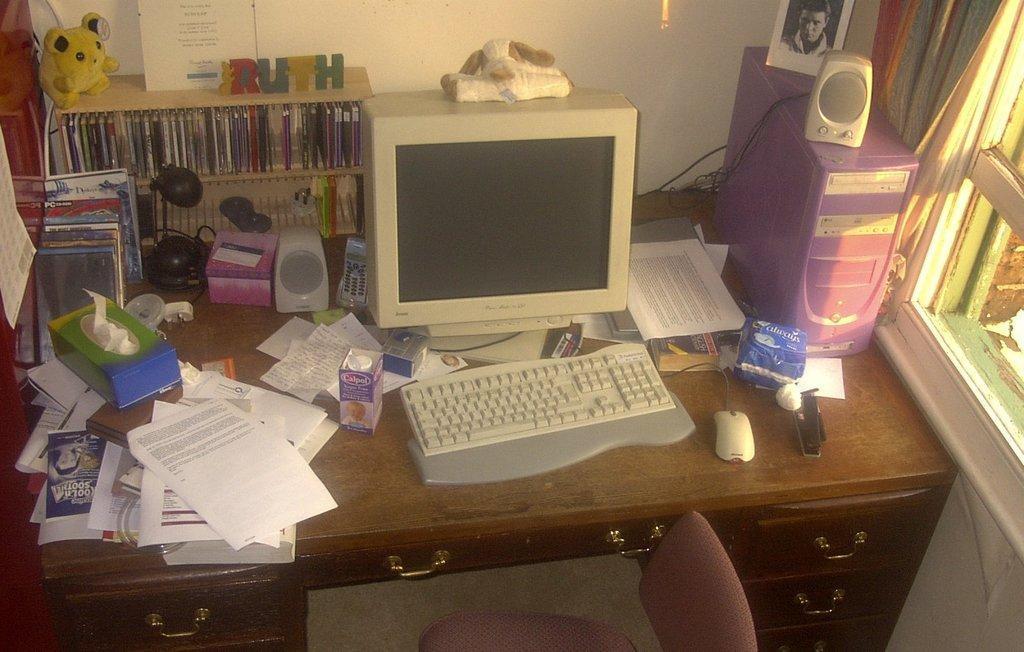Book: (33, 161, 155, 368), (58, 113, 144, 177), (142, 108, 206, 182), (205, 108, 270, 179), (299, 106, 361, 166), (281, 101, 302, 174)
Computer-keyboard: (399, 341, 679, 458)
Computer-monitor: (339, 94, 643, 367)
